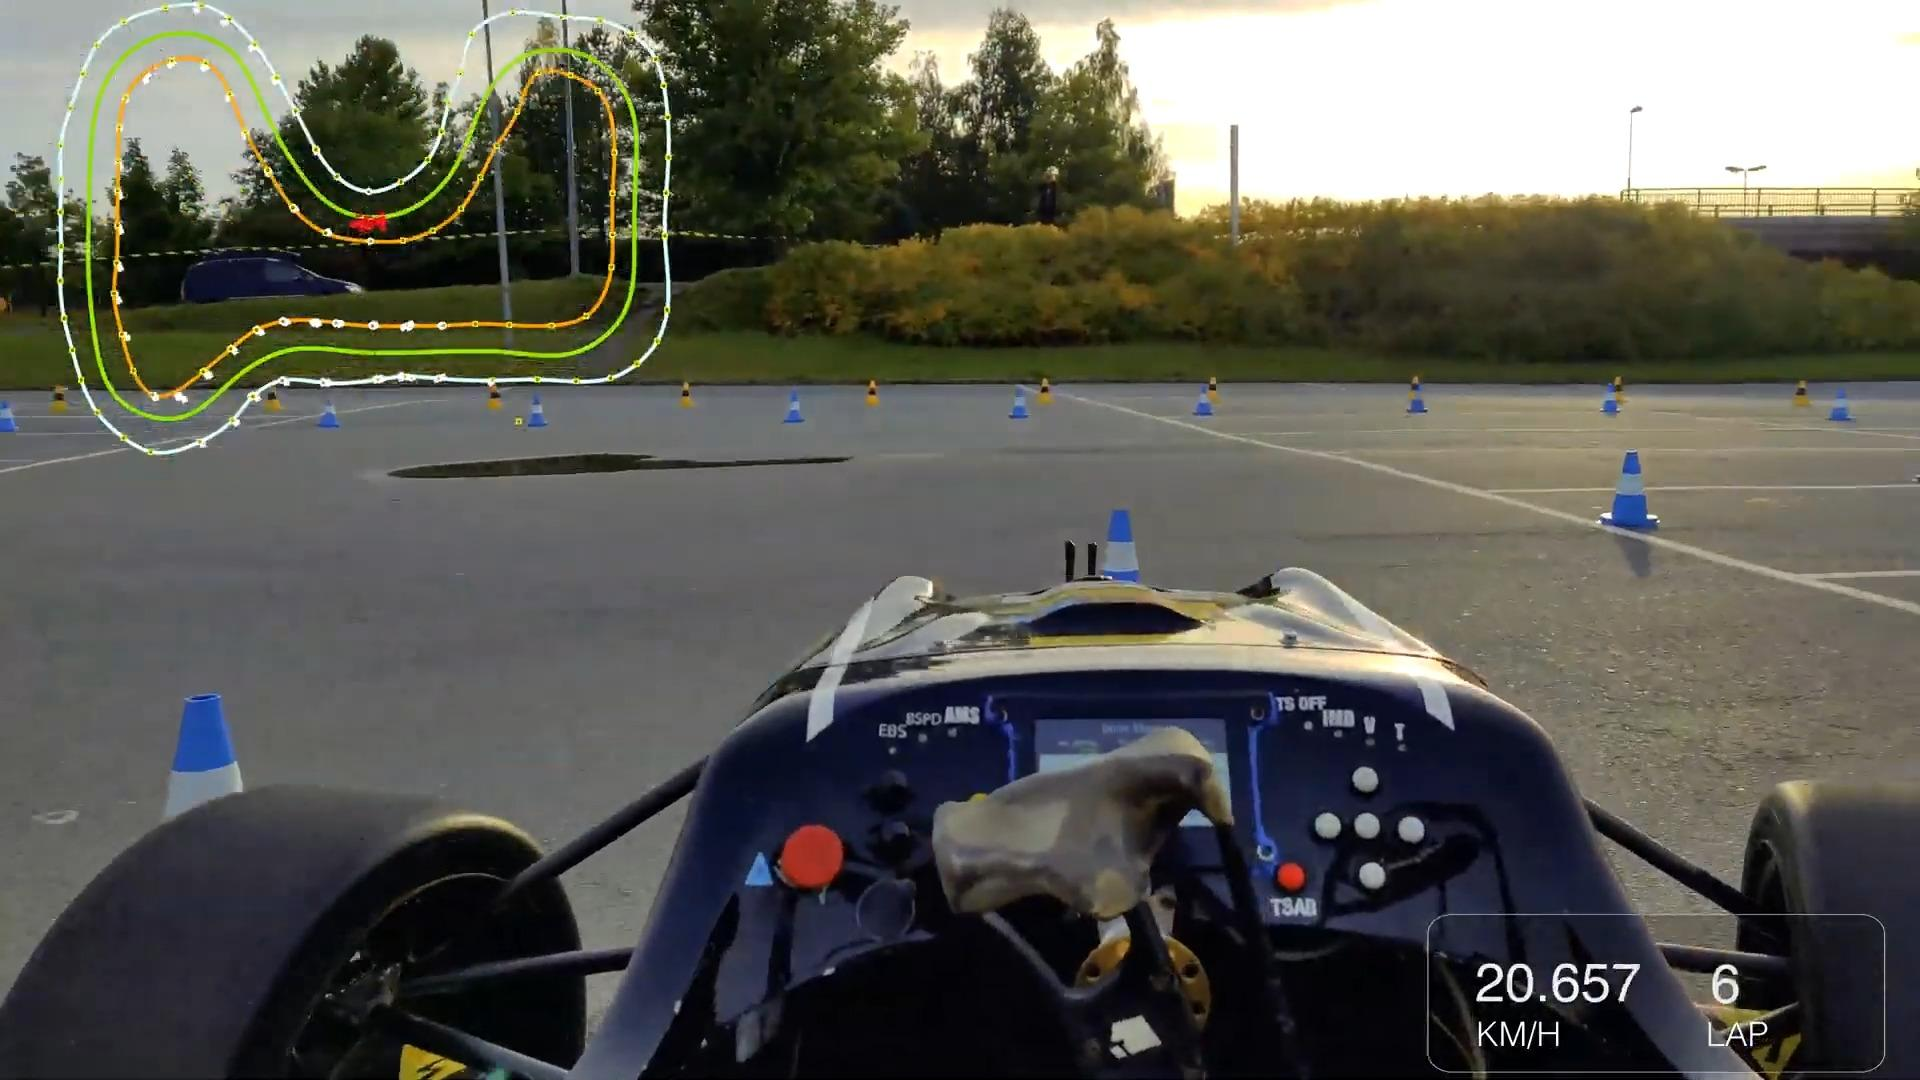blue_cone: (135, 678, 281, 876), (1073, 505, 1155, 612), (1596, 448, 1664, 531), (1825, 386, 1858, 422), (316, 396, 343, 434), (0, 394, 24, 436), (525, 392, 551, 429), (782, 388, 806, 427), (1596, 381, 1622, 417), (1009, 385, 1031, 421), (1192, 385, 1215, 419), (1407, 382, 1431, 414)
yellow_cone: (45, 382, 70, 417), (1788, 377, 1813, 410), (480, 380, 506, 409), (860, 378, 885, 409), (1204, 373, 1225, 407), (262, 381, 284, 413), (1035, 377, 1056, 407), (675, 382, 698, 410), (1610, 376, 1629, 404), (1404, 373, 1422, 401)
